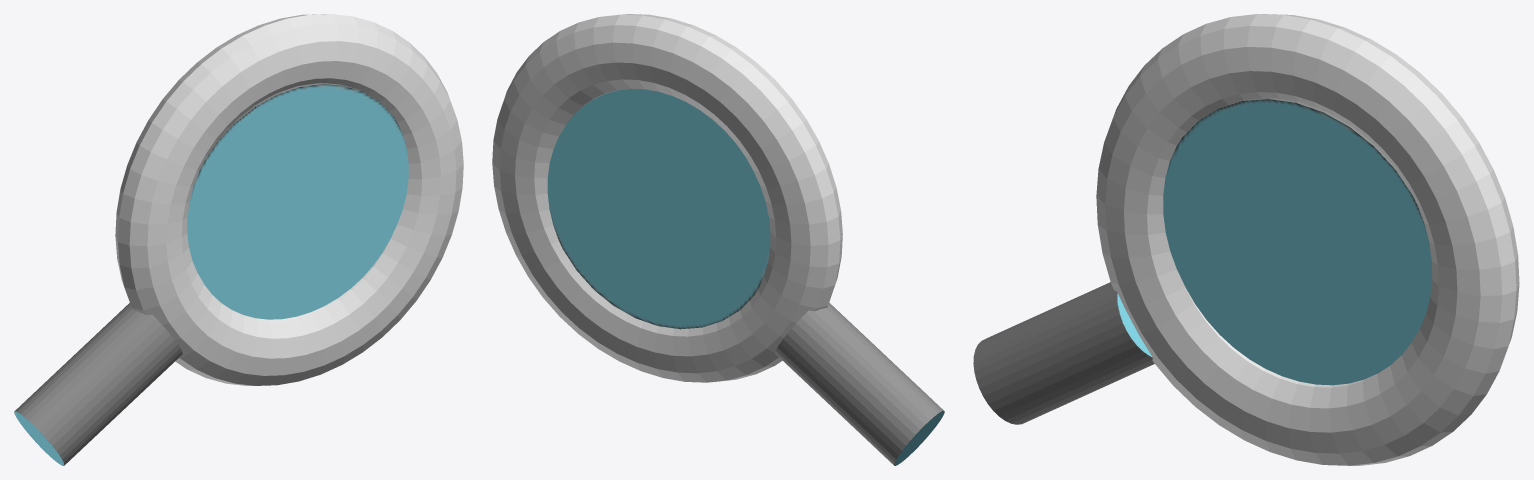
File: scope.obj
3 views of the same model, side by side, from view 1: azimuth 30°, elevation 25°; view 2: azimuth 150°, elevation 25°; view 3: azimuth 330°, elevation 25° (orthographic). The views are drawn at different scales.
Parts seen in each view (by area): view 1: 円柱; view 2: 円柱; view 3: 円柱.
Boxes of the visible parts, <box> form: 円柱: <box>14,14,463,465</box>; 円柱: <box>492,14,944,465</box>; 円柱: <box>973,14,1519,465</box>.
Bounding box in the file's own units: 1.34 × 1.13 × 0.1813.
Materials: 1 (1 with a texture image).
